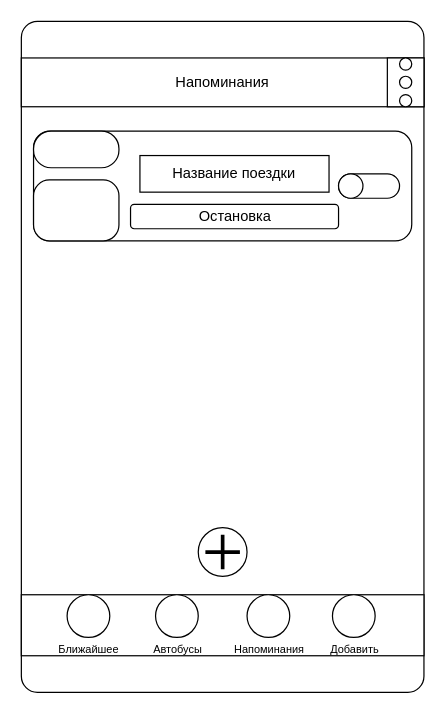
Image size: 445x714. Some labels were removed from this diagram. The shapes that lost their labels are listed below. From the top down, each one's centre as x and y in pixels, then its label:
At point 75,149: "Время".
At point 75,210: "Номер автобуса".
